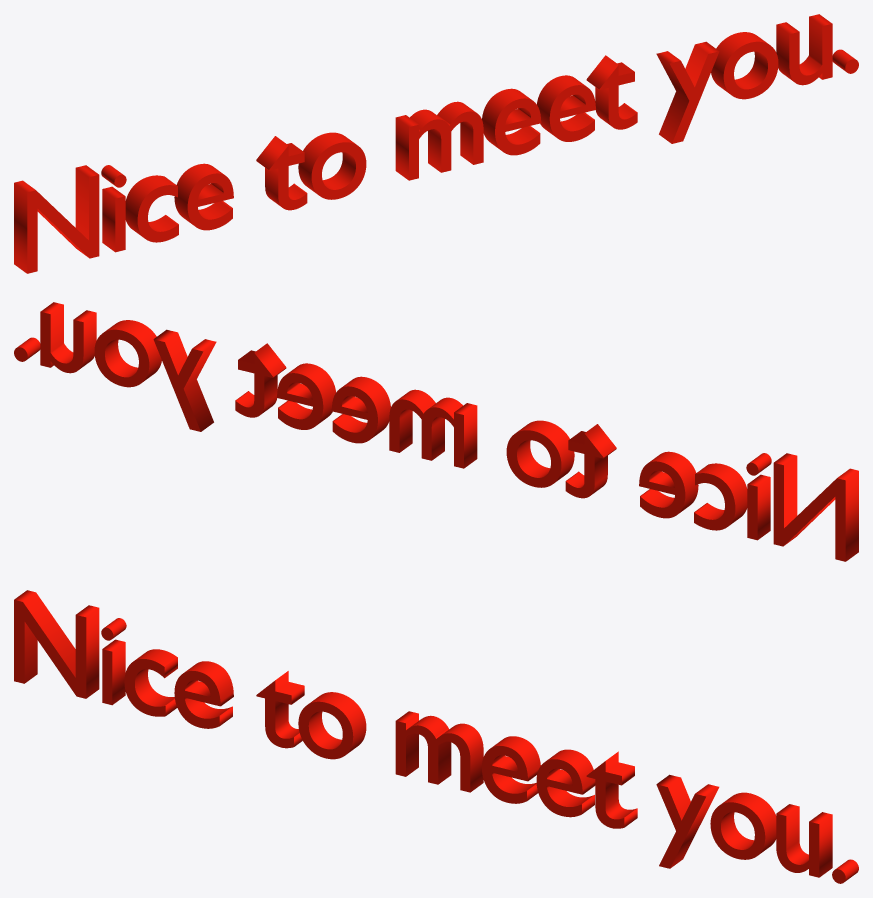
3 renders of one model, top to bottom at view 1: azimuth 30°, elevation 25°; view 2: azimuth 150°, elevation 25°; view 3: azimuth 330°, elevation 25°, orthographic.
Parts seen in each view (by area): view 1: Text.003; view 2: Text.003; view 3: Text.003.
Boxes of the visible parts, bbox=[...] form: Text.003: bbox=[14, 14, 858, 273]; Text.003: bbox=[14, 302, 858, 561]; Text.003: bbox=[14, 590, 858, 883].
Size of the model in its own units: 2.57 by 0.3218 by 0.0706.
